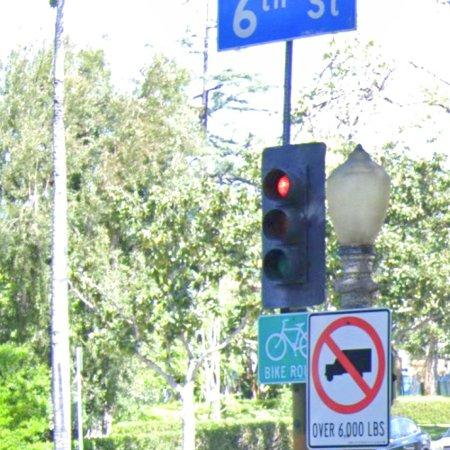traffic lights: (263, 143, 327, 309)
